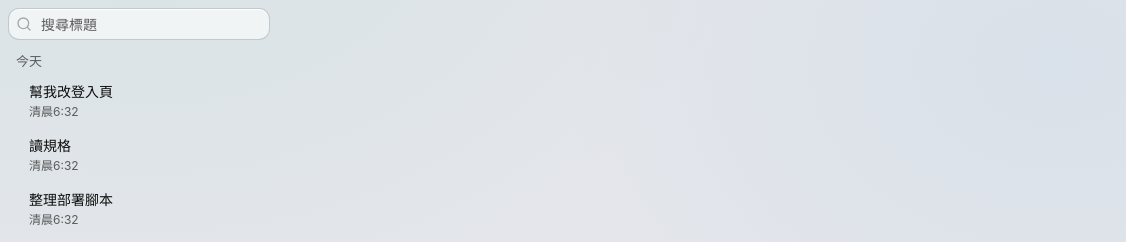
it: 有開內容搜尋 › 伺服器說還有：講一聲
Type "規格" into the search field named "搜尋以前的會話" at (139, 24), box [8, 8, 270, 40]
Wait 250 ms
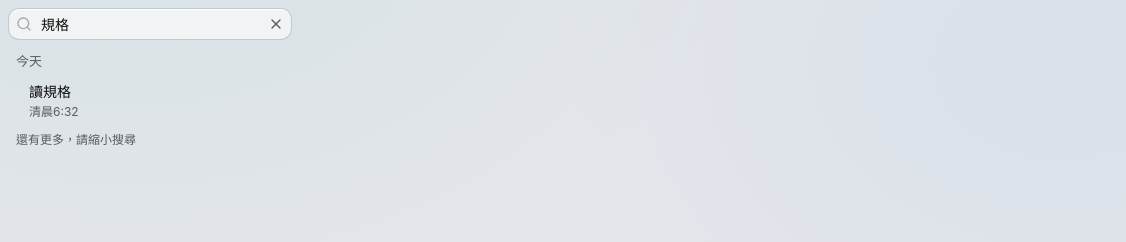
Expected: the text "還有更多，請縮小搜尋" is shown, [16, 132, 136, 147]
